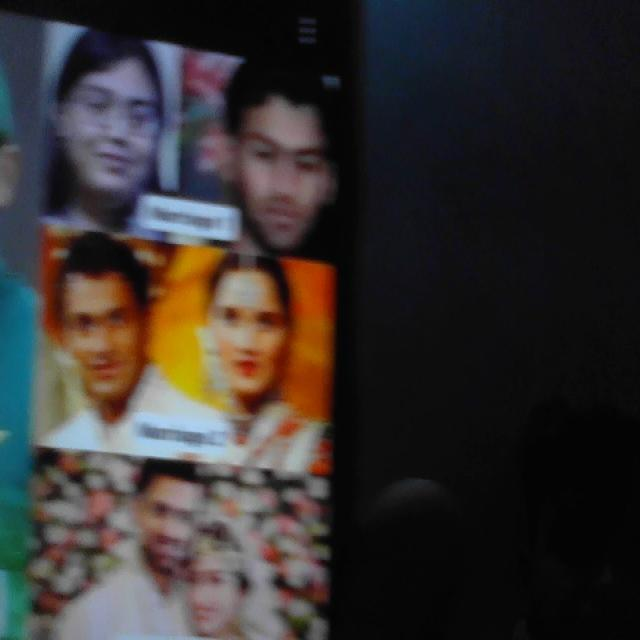fake: (219, 33, 345, 271)
